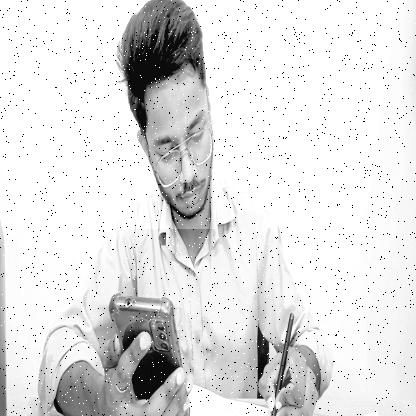Distracted: (120, 0, 216, 229)
